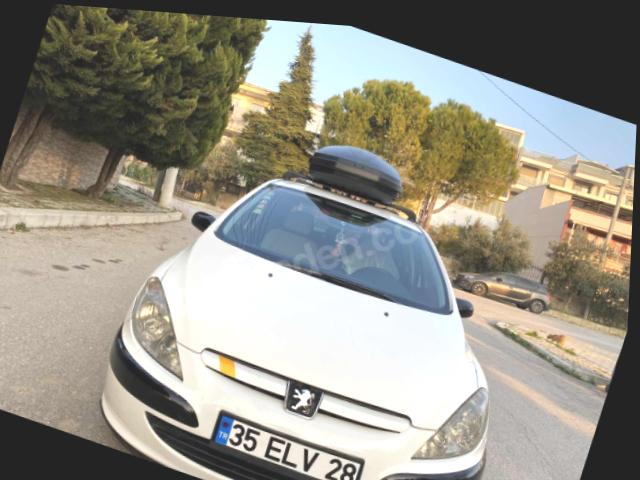plaka: (215, 416, 362, 480)
